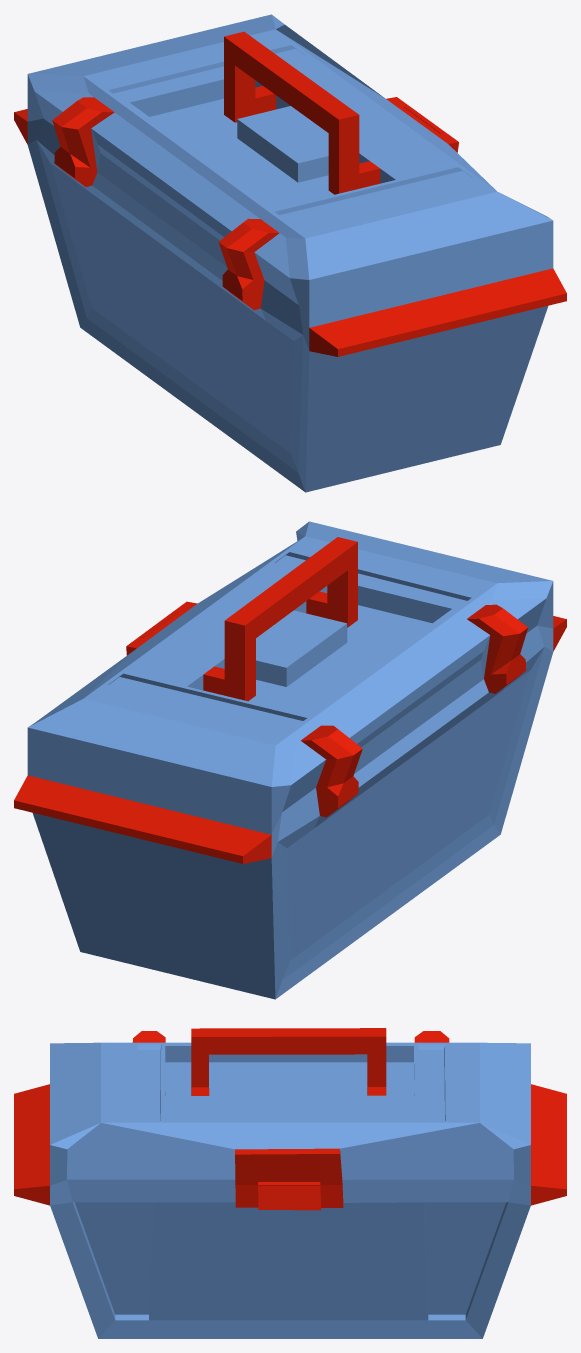
The model's file is Skrzynka.fbx.
3 views of the same model, one above another, from view 1: azimuth 30°, elevation 25°; view 2: azimuth 150°, elevation 25°; view 3: azimuth 270°, elevation 25° (orthographic). The views are drawn at different scales.
Visible parts, largest first — view 1: Cube; view 2: Cube; view 3: Cube.
Part boxes in pixels (x1,y1,x2,y2): Cube: (14,14,566,492); Cube: (14,521,566,999); Cube: (14,1028,566,1338).
Size of the model in its own units: 237 by 244 by 460.
